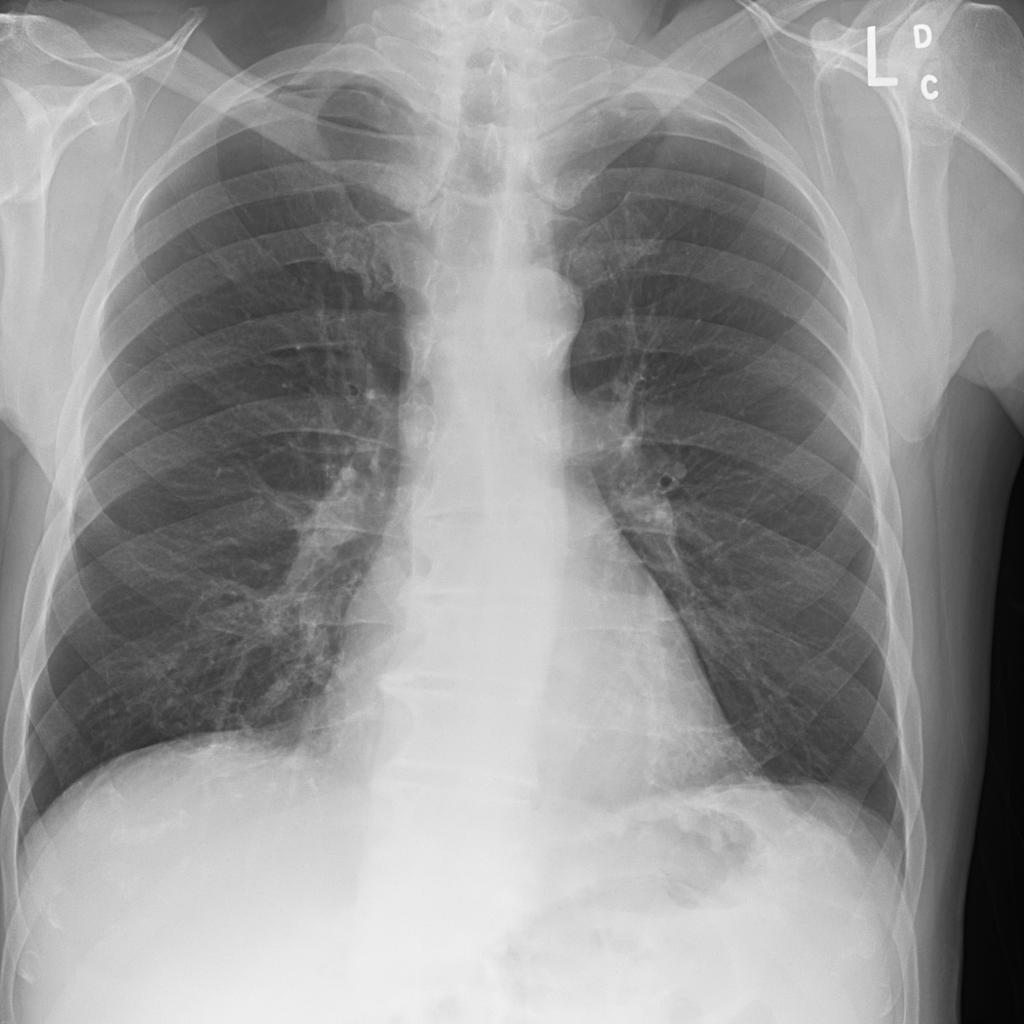Nodule: (118, 373, 159, 399), (144, 352, 169, 375), (142, 296, 165, 319)
